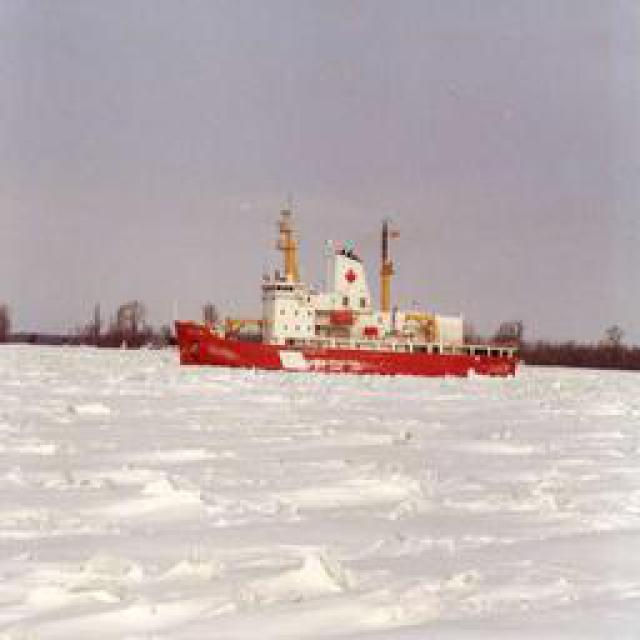Ship: (179, 200, 522, 385)
